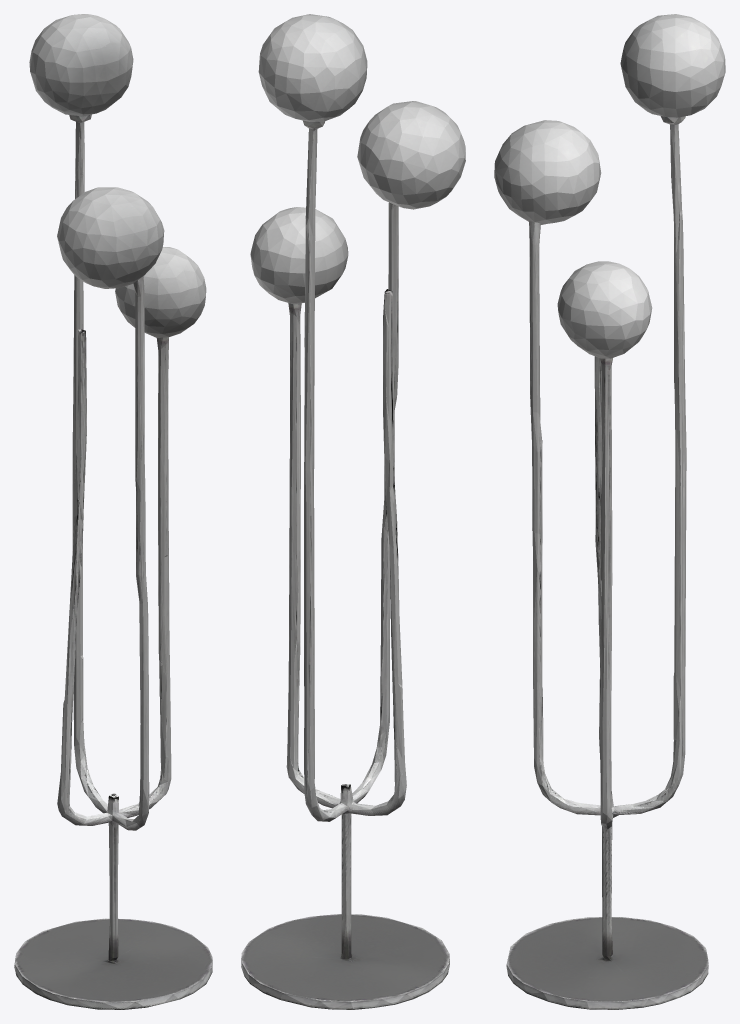
Rendered from Simrishamn_floor_lamp_on.glb.
The picture shows the model from 3 angles, left to right: view 1: azimuth 30°, elevation 25°; view 2: azimuth 150°, elevation 25°; view 3: azimuth 270°, elevation 25°; orthographic projection. The views are drawn at different scales.
Visible parts, largest first — view 1: world; view 2: world; view 3: world.
Boxes of the visible parts, x1=… form: world: x1=14, y1=14, x2=212, y2=1009; world: x1=241, y1=14, x2=465, y2=1009; world: x1=494, y1=14, x2=725, y2=1009.
Bounding box in the file's own units: 0.1935 × 1 × 0.2218.
1 material, 1 textured.
